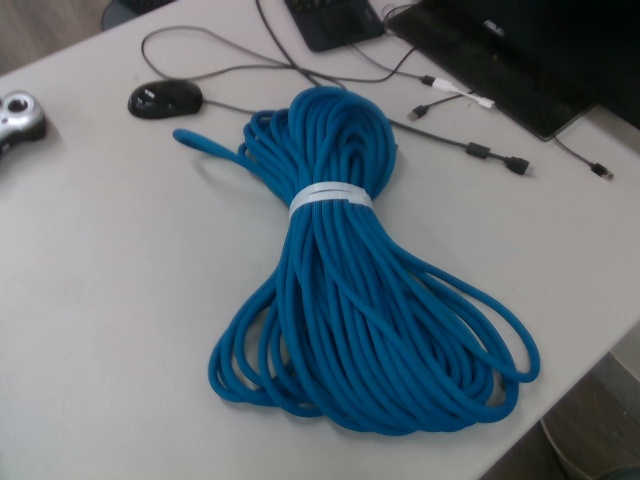rope: (167, 83, 545, 440)
